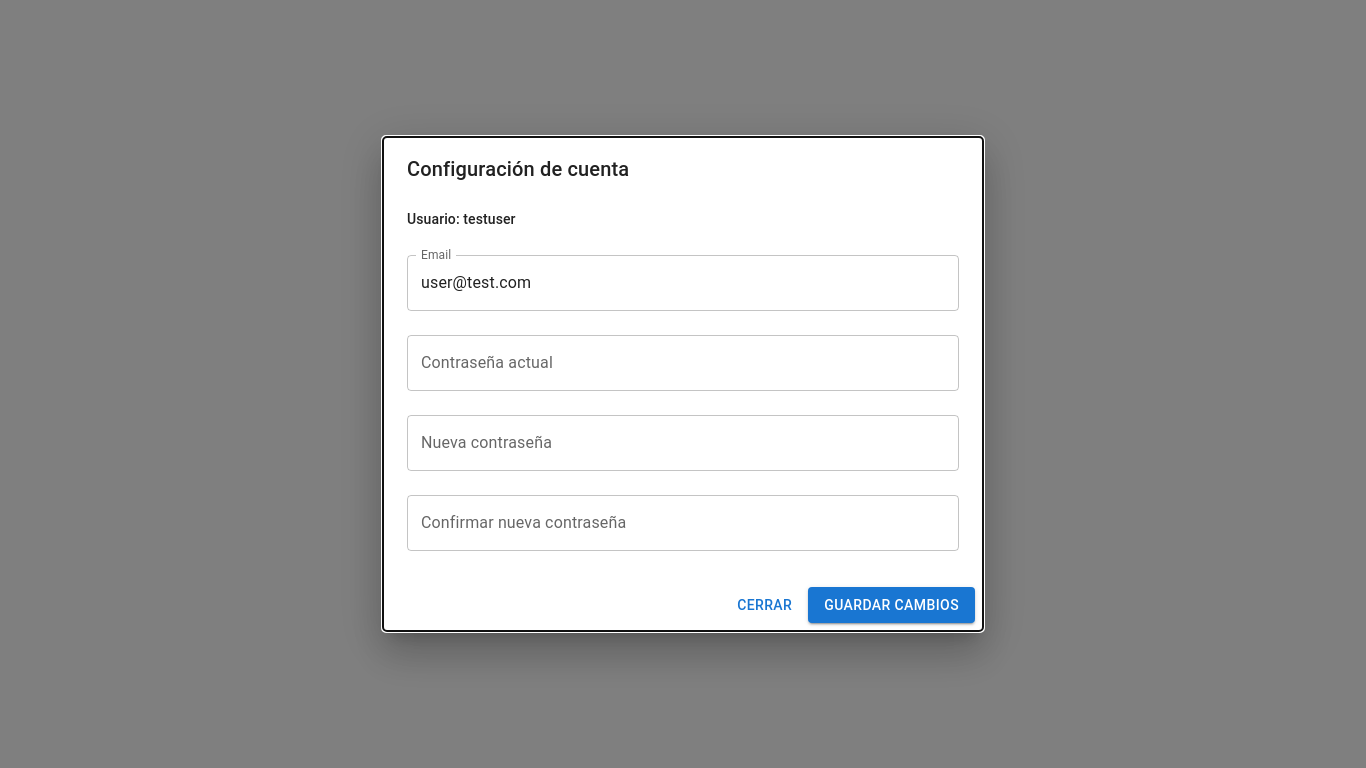
Test: AccountSettingsDialog › muestra error si no hay cambios
This screenshot has width=1366, height=768.
Check: the field labelled "Email" is shown, box [407,255,959,311]
Type "currentpass" into the password field labelled "Contraseña actual" at (683, 363), box [407,335,959,391]
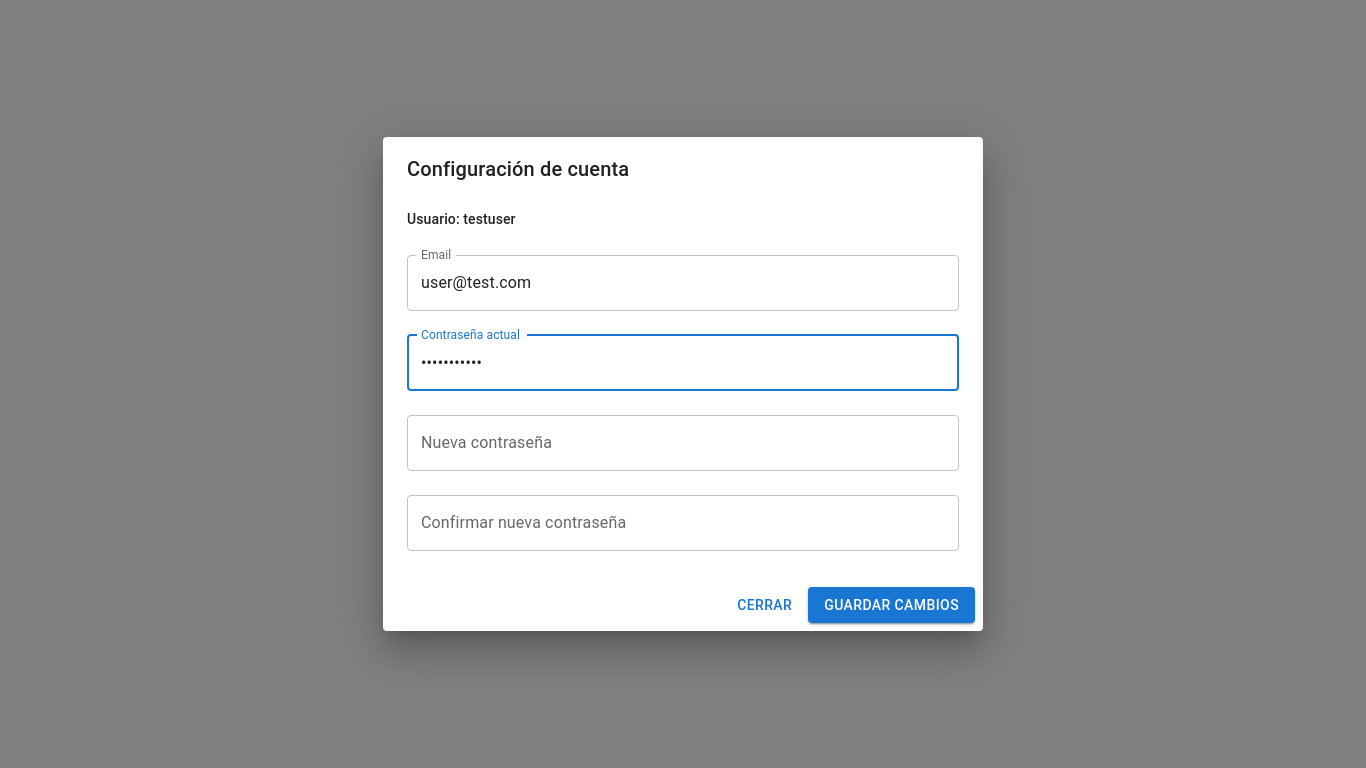
Click the button "Guardar cambios" at (892, 605), box [808,587,975,623]
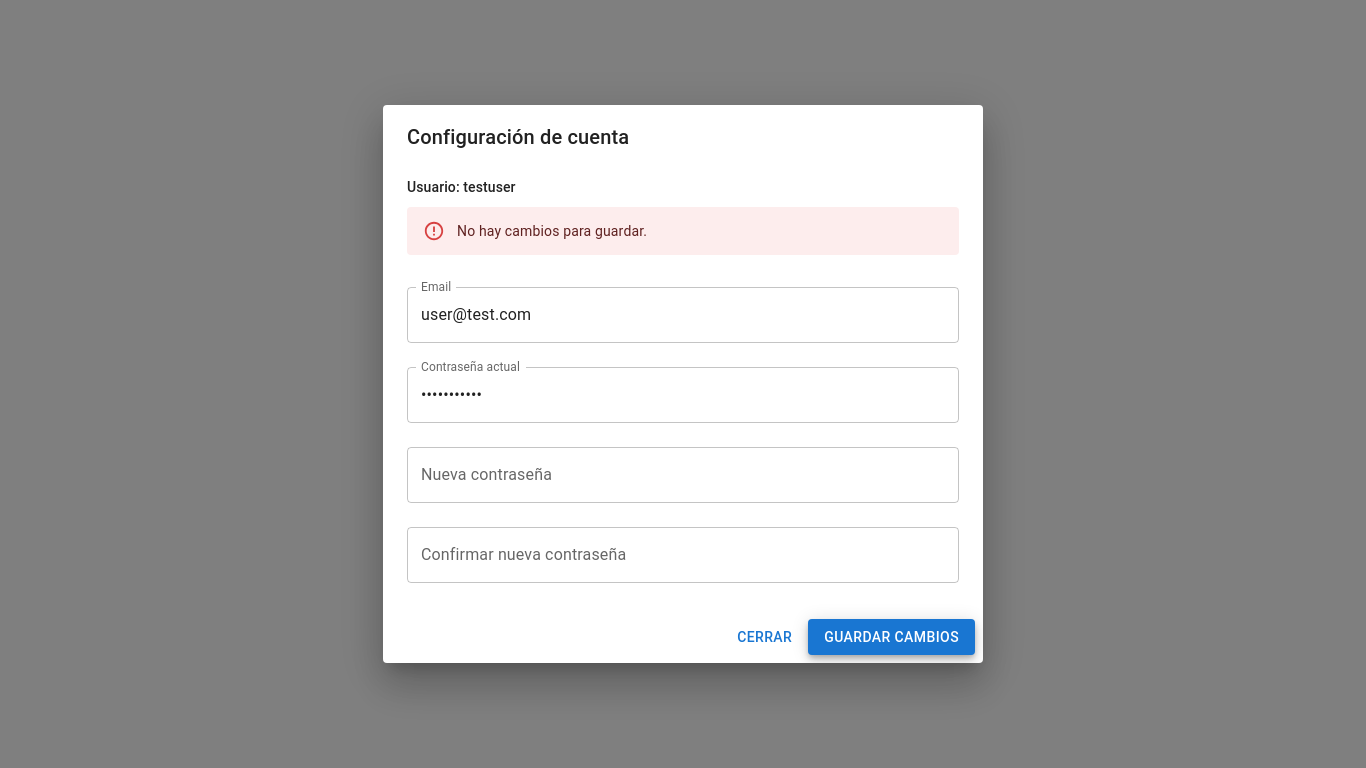
Check: the text "No hay cambios para guardar." is shown, box [457,223,647,239]
